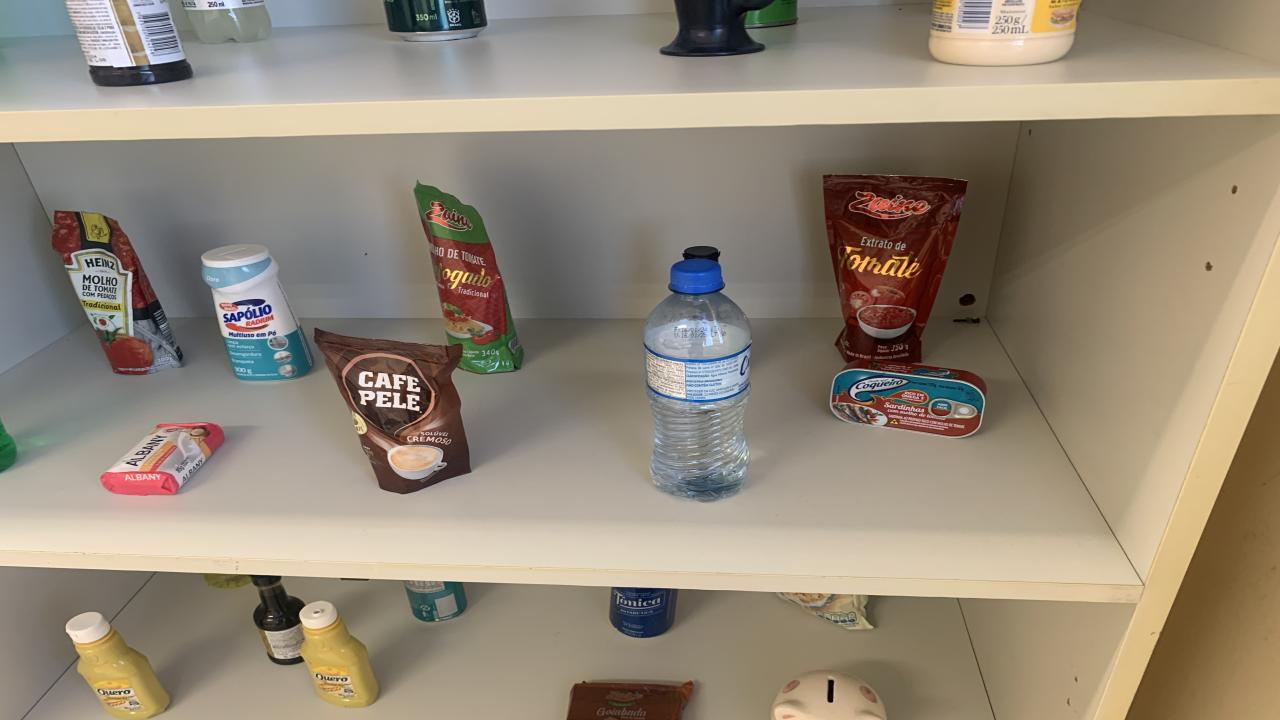Cleaner-Cleanup_Items: (202, 244, 312, 381)
Coffee-Pantry_Items: (315, 328, 470, 493)
English_Sauce-Pantry_Items: (65, 0, 192, 86), (250, 576, 305, 666)
Flakes-Snacks: (778, 592, 872, 630)
Guarana_Can-Drinks: (385, 0, 488, 41)
Guava-Snacks: (568, 681, 692, 720)
Mayonnaise-Pantry_Items: (928, 0, 1080, 66)
Mustard-Pantry_Items: (65, 611, 170, 718), (300, 602, 378, 707)
Pig_Safe-Miscellaneous: (770, 669, 888, 720)
Pringles-Snacks: (745, 0, 798, 28)
Soap-Cleanup_Items: (100, 424, 225, 495)
Soda-Drinks: (182, 0, 272, 43)
Tea-Drinks: (405, 581, 468, 622)
Tomato_Sauce-Pantry_Items: (822, 174, 968, 362), (52, 210, 182, 375), (415, 182, 522, 373)
Tonic-Drinks: (610, 587, 678, 638)
Tuna_Can-Pantry_Items: (830, 360, 988, 437)
Water_Bottle-Drinks: (642, 248, 752, 501)
